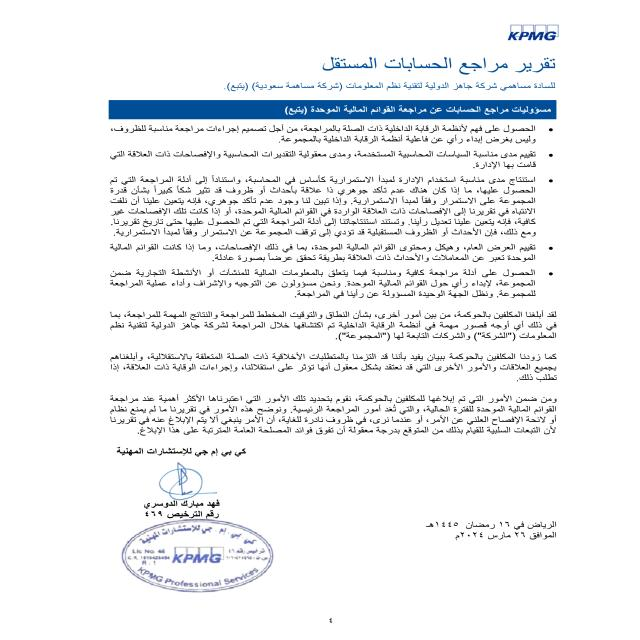auditor_report: (322, 49, 568, 78)
